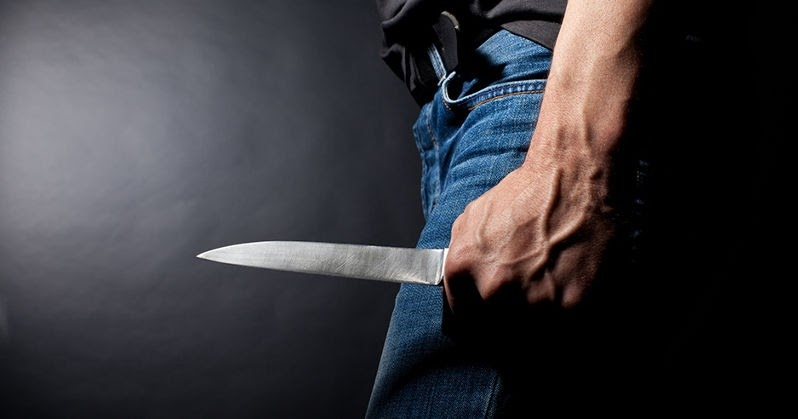knife: (194, 238, 539, 286)
